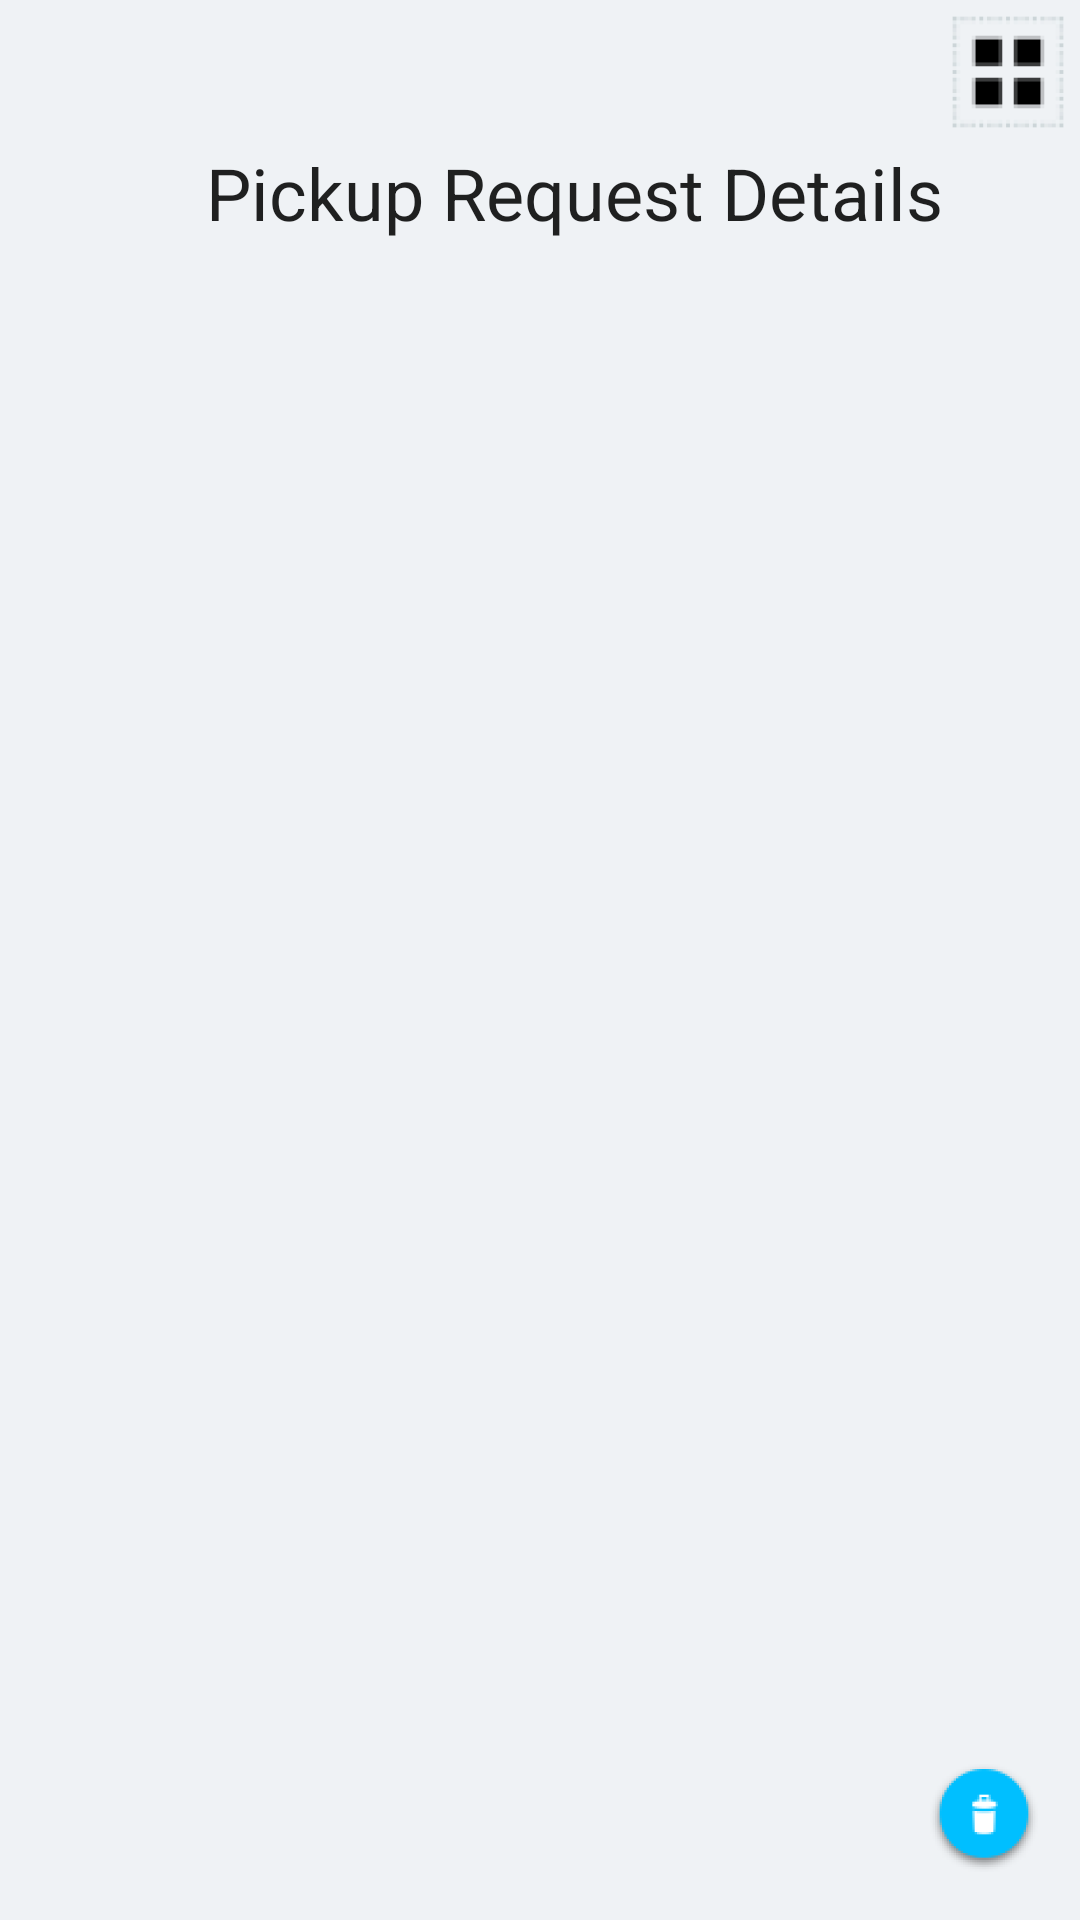

Screen size 1080 x 1920. Icon name, then its box in pixels as region(x1, y1, x2, y2):
delete: region(935, 1769, 1033, 1867)
